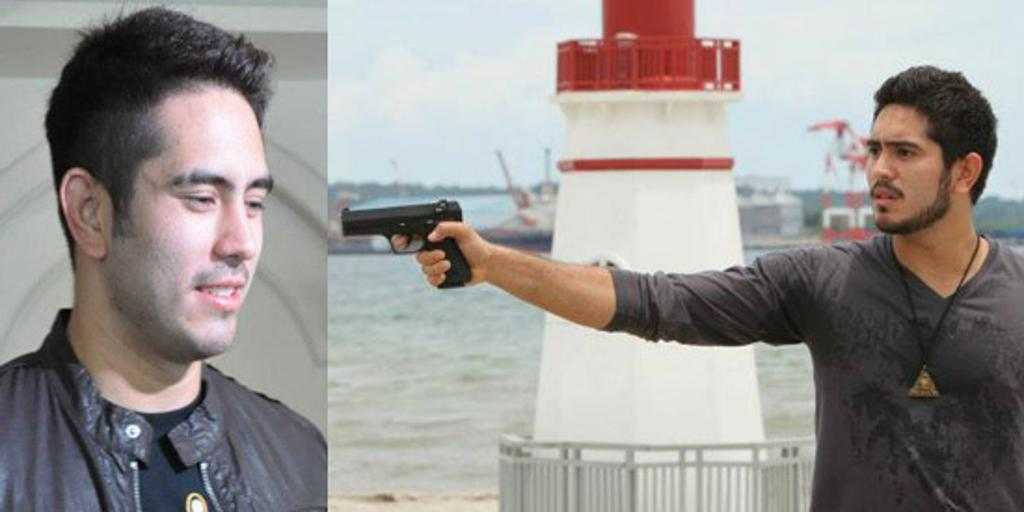face: (112, 80, 272, 354), (866, 94, 946, 230)
